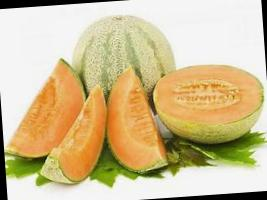Melon Ripe: (152, 60, 266, 147), (0, 56, 87, 162), (35, 86, 112, 186), (104, 63, 170, 176)
